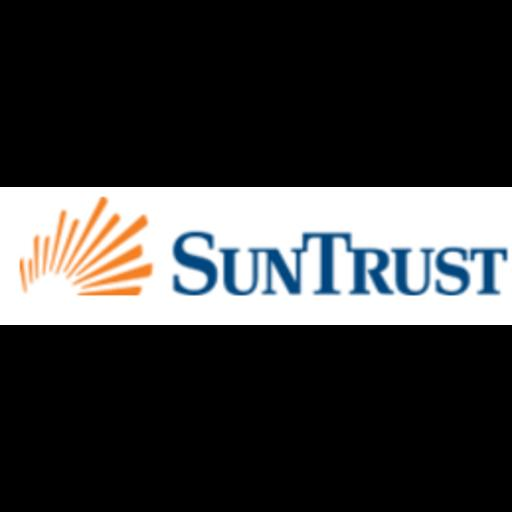SunTrust Bank: (0, 187, 512, 325)
